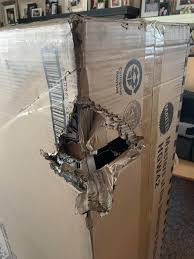damaged package: (52, 93, 148, 213)
